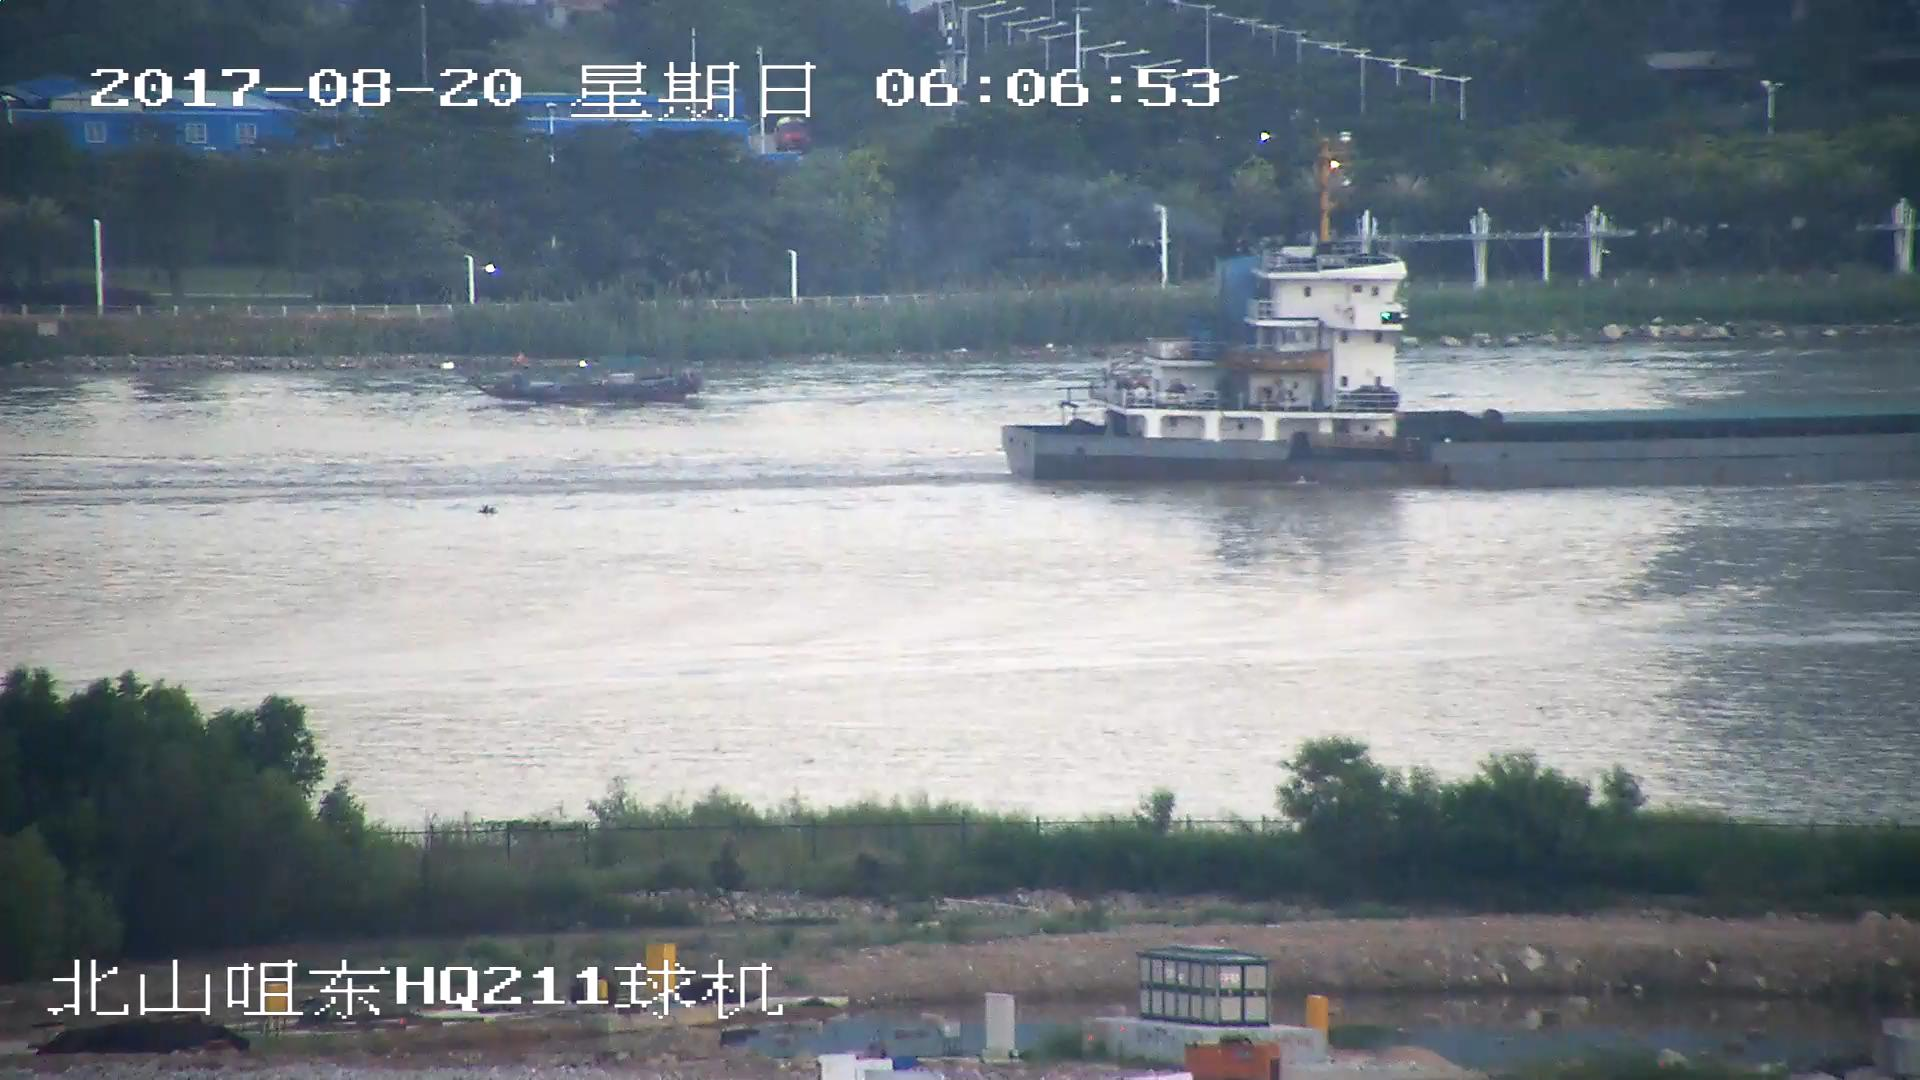fishing boat: (479, 370, 705, 402)
general cargo ship: (1007, 222, 1920, 493)
